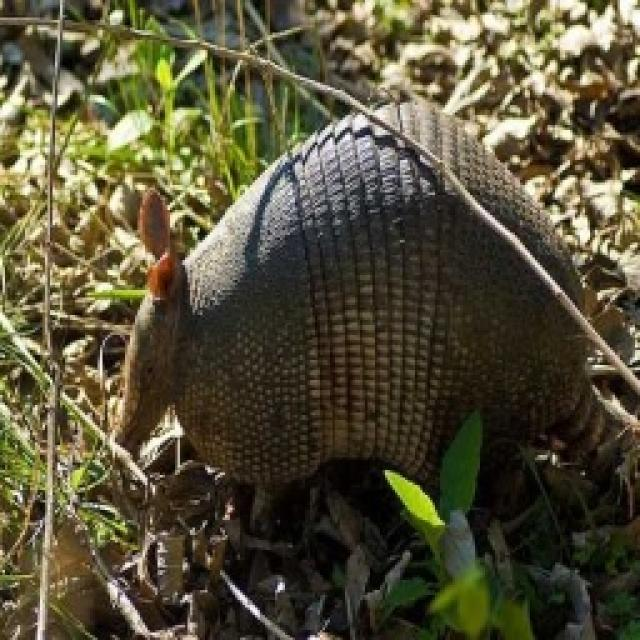pig: (110, 95, 638, 520)
